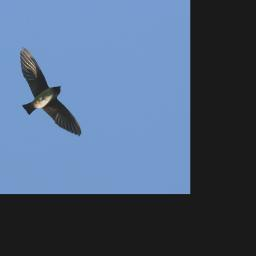Swallow: (18, 47, 80, 138)
